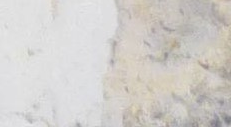Spalling: (101, 1, 231, 127)
